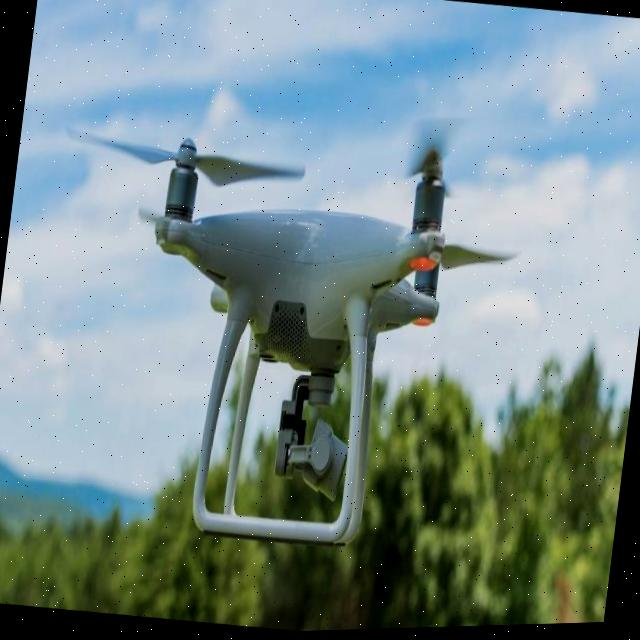drone: (78, 72, 558, 526)
